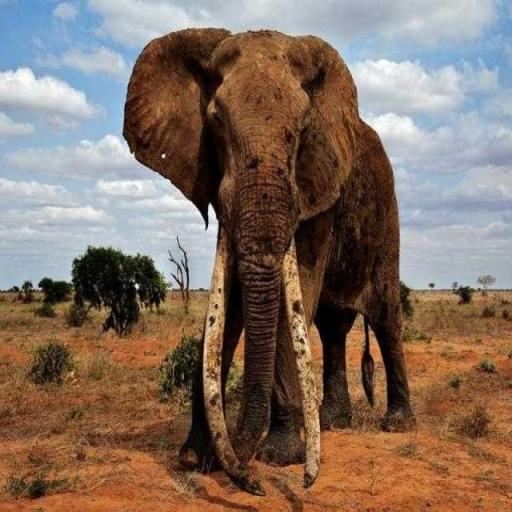Elephant: (121, 26, 416, 496)
